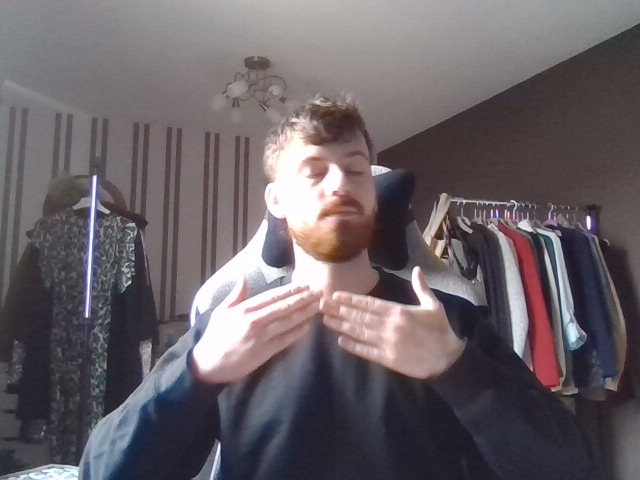Thanks: (187, 266, 473, 396)
